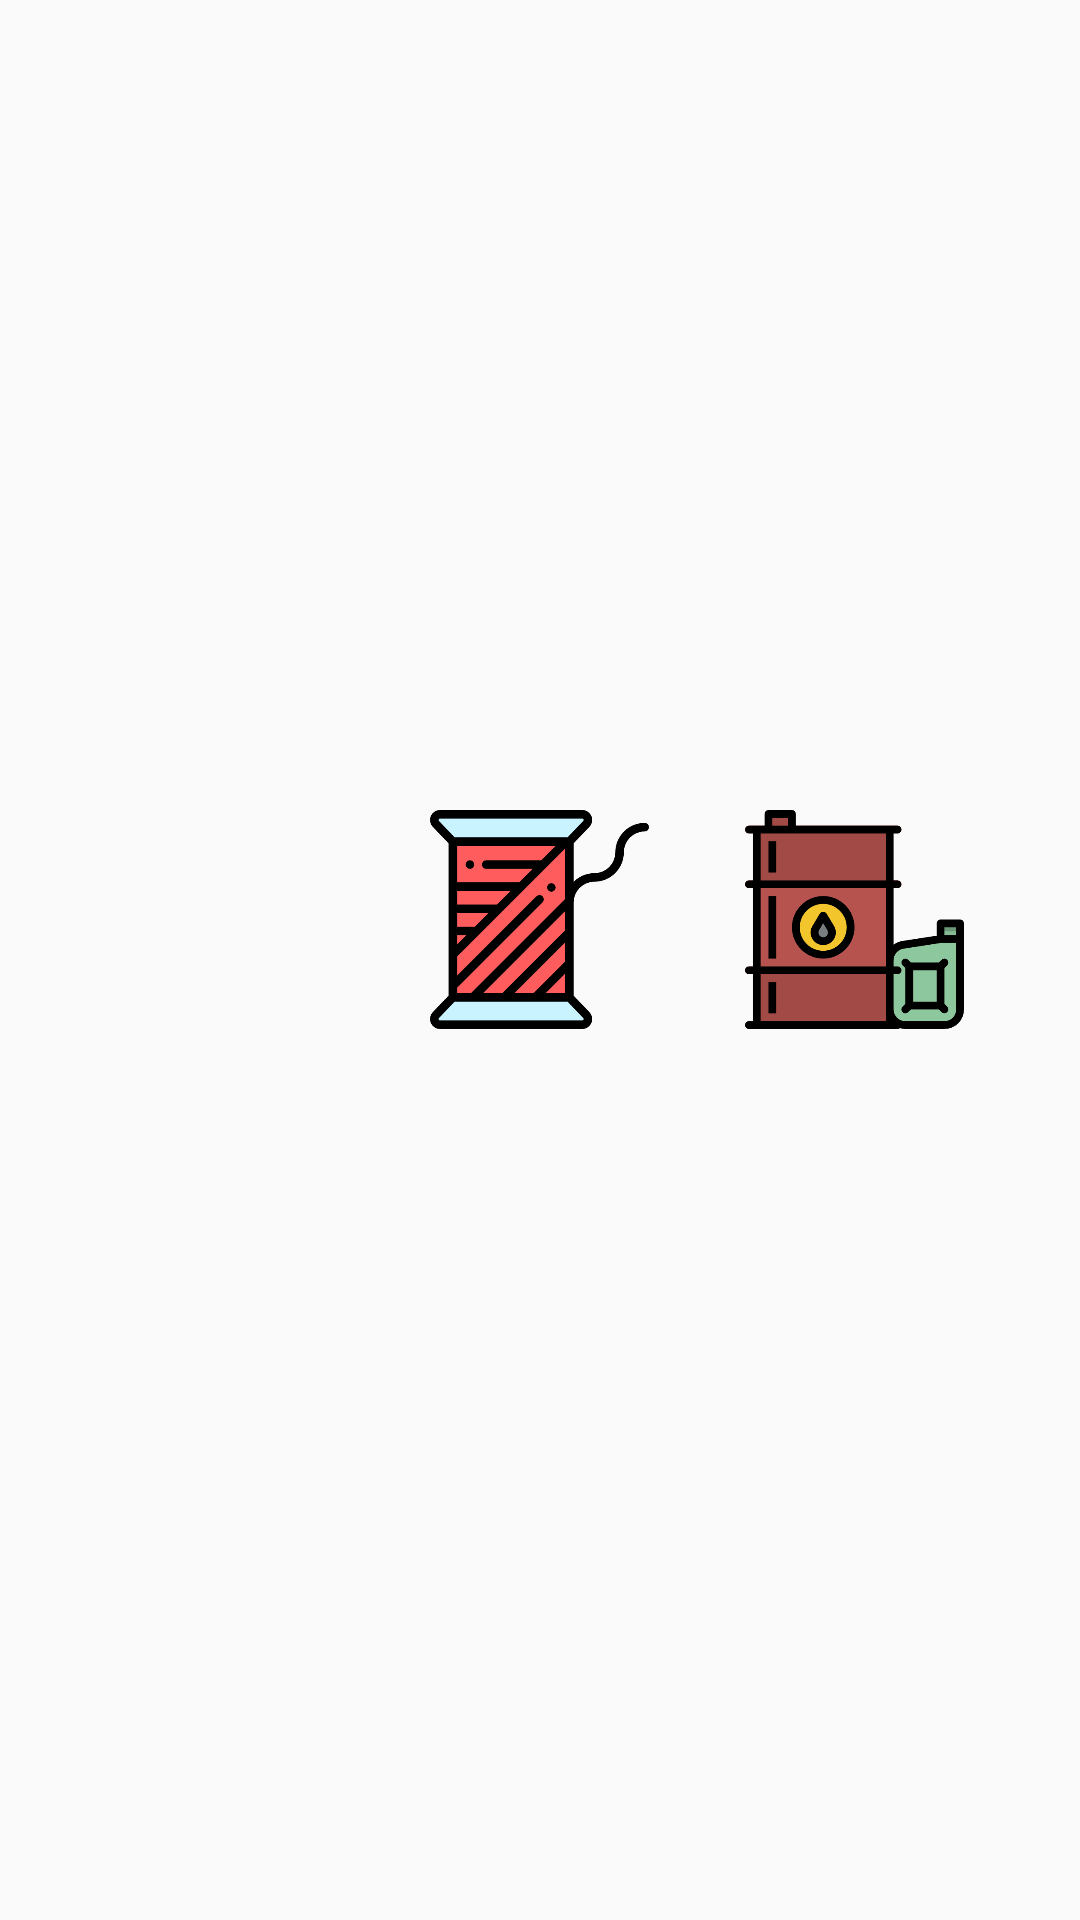

Where to tap for icons on this 1080×1920 app screen, as [x,y]:
oil: [854,919]
thread: [539,919]
